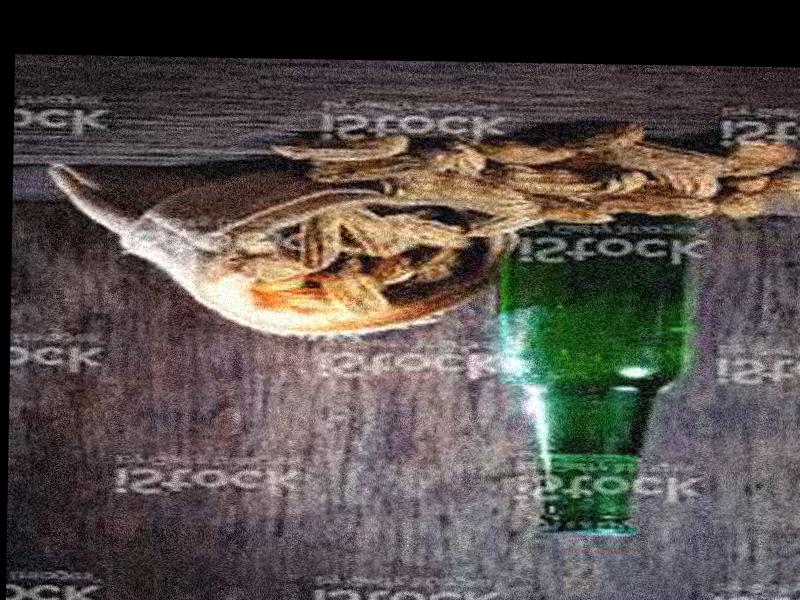Beer: (488, 188, 691, 540)
